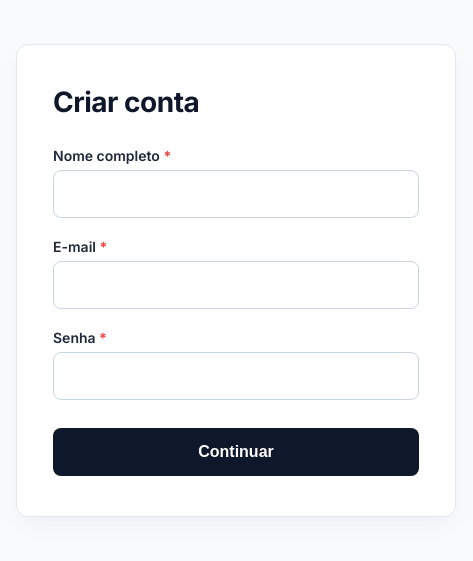
Scenario: Cadastro › avisa quando o e-mail já está cadastrado e preserva os dados
In the field labelled "Nome completo *": {"x": 236, "y": 194} [53,170,419,218], type "Ana Lima"
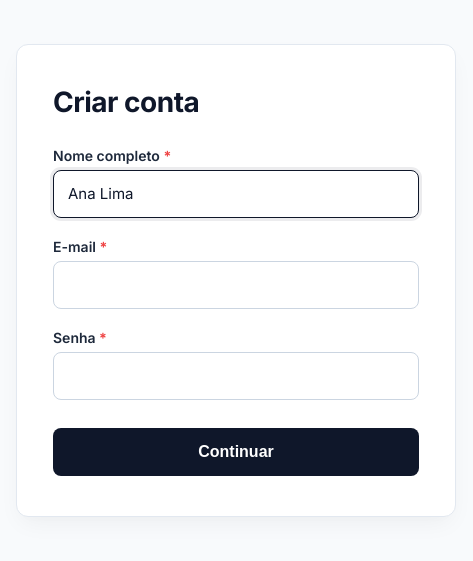
In the field labelled "E-mail *": {"x": 236, "y": 284} [53,260,419,308], type "ana@exemplo.com"
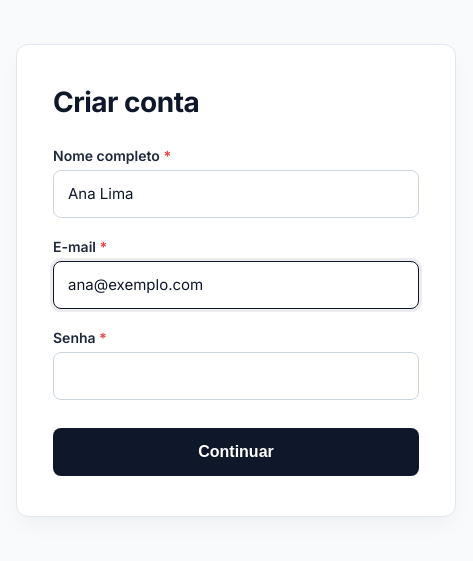
In the password field labelled "Senha *": {"x": 236, "y": 376} [53,352,419,400], type "senha-segura"
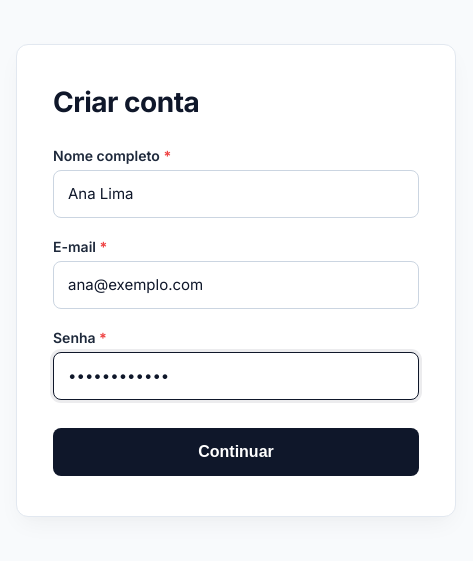
Click the button "Continuar": {"x": 236, "y": 452} [53,428,419,476]
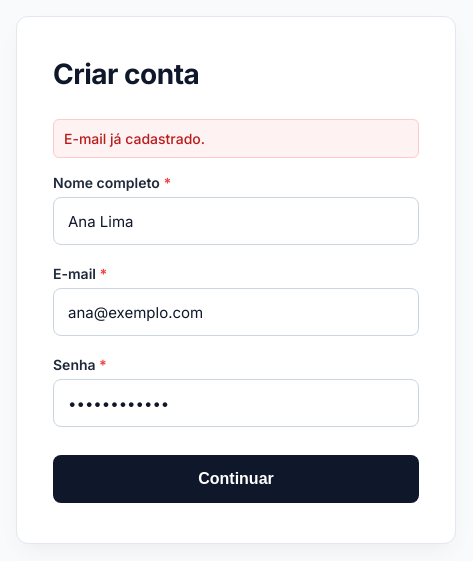
Expected: the button "Continuar" is enabled, [53,455,419,503]
Expected: the text "E-mail já cadastrado." is shown, [53,119,419,158]
